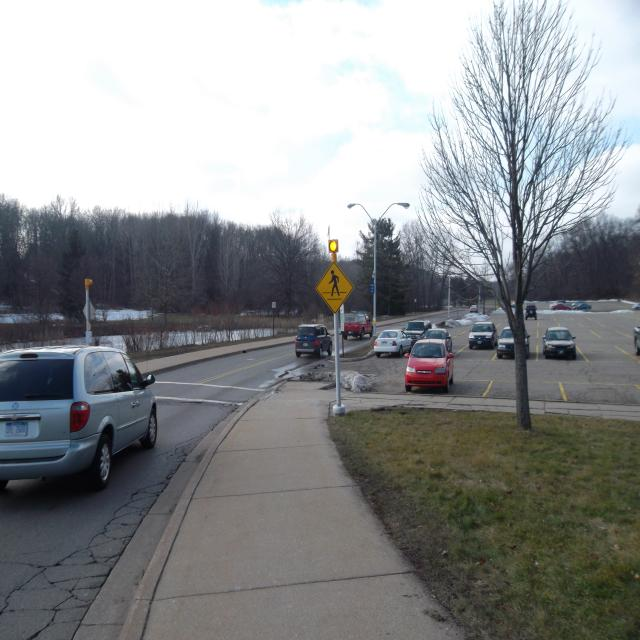warning: (314, 262, 355, 316)
